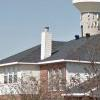Chimney: (32, 23, 55, 65)
